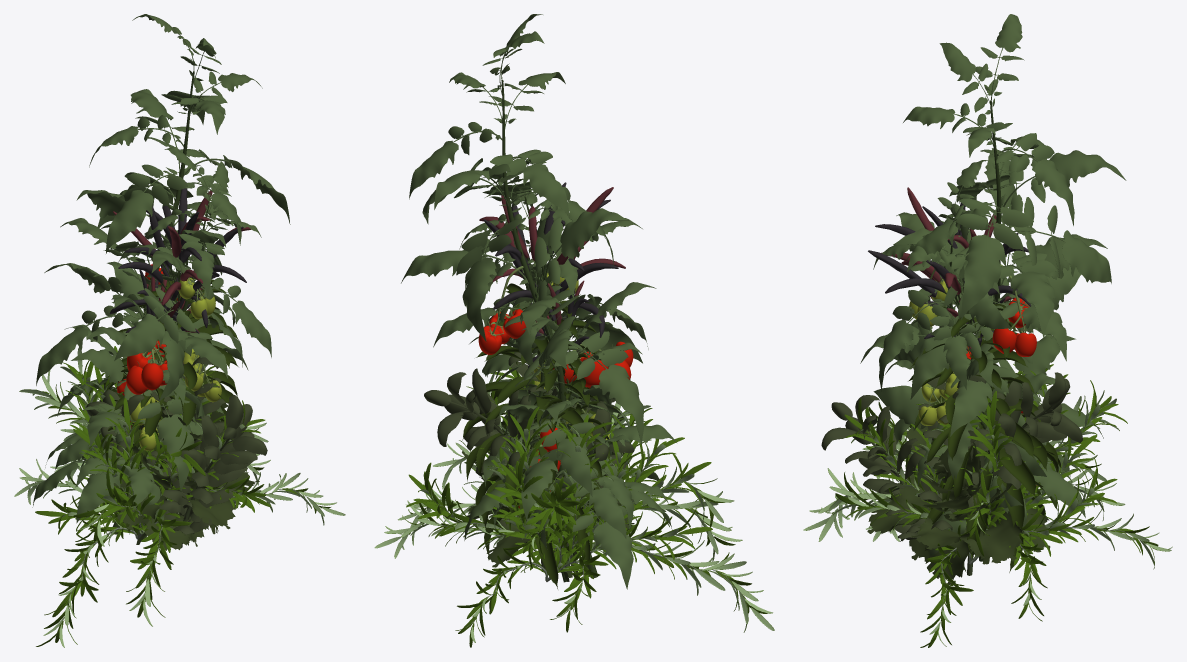
File: rosemary_t.glb
3 renders of one model, left to right at view 1: azimuth 30°, elevation 25°; view 2: azimuth 150°, elevation 25°; view 3: azimuth 270°, elevation 25°, orthographic. The views are drawn at different scales.
Parts seen in each view (by area): view 1: TOMATO 18092019 2, rosemary 021023 1, TOMATO 18092019 2.001, basil 13032021 008, Red pepper 24092019 2, Lettuce 13032019 006, Red pepper 24092019 5; view 2: TOMATO 18092019 2, rosemary 021023 1, TOMATO 18092019 2.001, Red pepper 24092019 2, basil 13032021 008, Red pepper 24092019 5, Lettuce 13032019 006; view 3: TOMATO 18092019 2, rosemary 021023 1, TOMATO 18092019 2.001, Red pepper 24092019 2, basil 13032021 008, Lettuce 13032019 006.
Part boxes in pixels (left/top/right/bottom): TOMATO 18092019 2: left=32, top=14, right=290, bottom=534; rosemary 021023 1: left=14, top=346, right=345, bottom=647; TOMATO 18092019 2.001: left=45, top=147, right=271, bottom=520; basil 13032021 008: left=86, top=303, right=267, bottom=548; Red pepper 24092019 2: left=93, top=181, right=251, bottom=539; Lettuce 13032019 006: left=113, top=400, right=259, bottom=550; Red pepper 24092019 5: left=94, top=263, right=203, bottom=514; TOMATO 18092019 2: left=401, top=14, right=676, bottom=589; rosemary 021023 1: left=374, top=353, right=774, bottom=647; TOMATO 18092019 2.001: left=459, top=158, right=668, bottom=576; Red pepper 24092019 2: left=462, top=182, right=625, bottom=588; basil 13032021 008: left=424, top=348, right=634, bottom=571; Red pepper 24092019 5: left=513, top=280, right=621, bottom=579; Lettuce 13032019 006: left=462, top=407, right=636, bottom=581; TOMATO 18092019 2: left=873, top=14, right=1126, bottom=556; rosemary 021023 1: left=803, top=364, right=1172, bottom=647; TOMATO 18092019 2.001: left=860, top=160, right=1072, bottom=533; Red pepper 24092019 2: left=868, top=187, right=1061, bottom=572; basil 13032021 008: left=821, top=364, right=1082, bottom=575; Lettuce 13032019 006: left=867, top=422, right=1050, bottom=585.
Bounding box in the file's own units: 0.5659 × 0.9316 × 0.5189.
